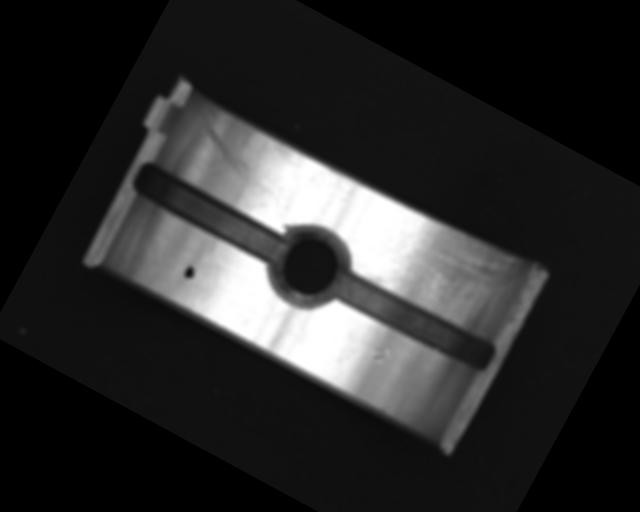blot: (181, 262, 199, 282)
bruise: (368, 342, 393, 368)
gap: (328, 261, 503, 380), (127, 157, 291, 269)
hole: (255, 212, 362, 319)
nick: (175, 106, 301, 211)
scratch: (368, 198, 526, 342)
